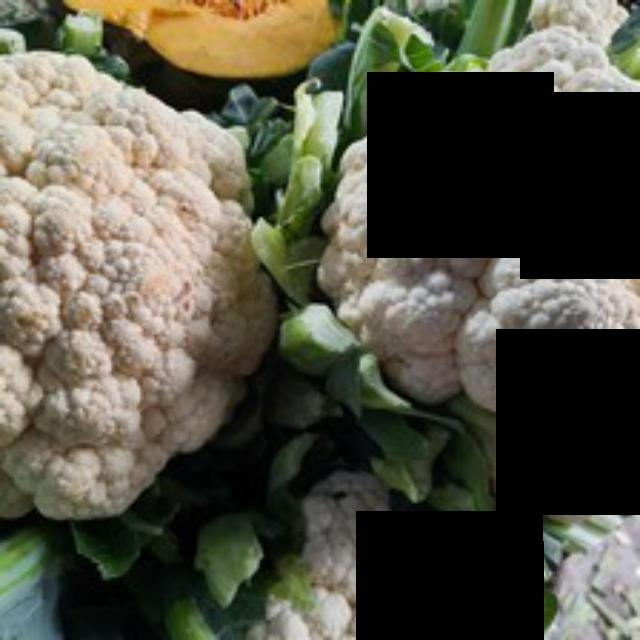cauliflower: (328, 20, 637, 514), (0, 27, 298, 537)
